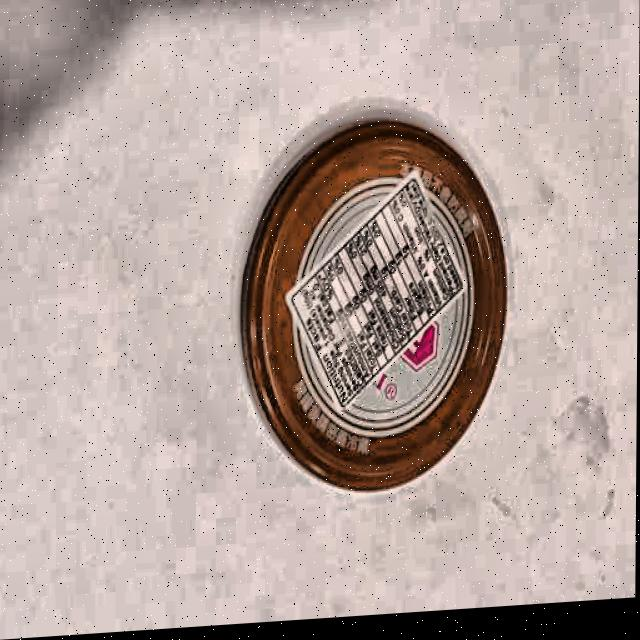metal: (235, 112, 511, 504)
